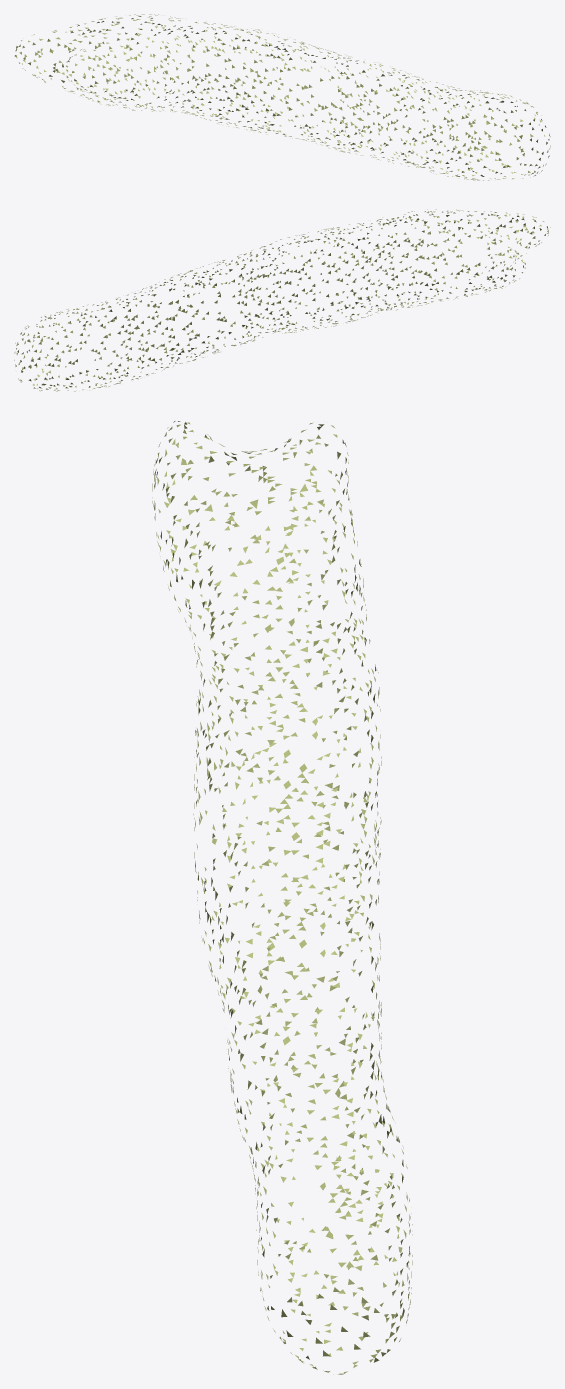
File: morph_010.glb
3 renders of one model, top to bottom at view 1: azimuth 30°, elevation 25°; view 2: azimuth 150°, elevation 25°; view 3: azimuth 270°, elevation 25°, orthographic. The views are drawn at different scales.
Size of the model in its own units: 109 by 52.97 by 24.69.
